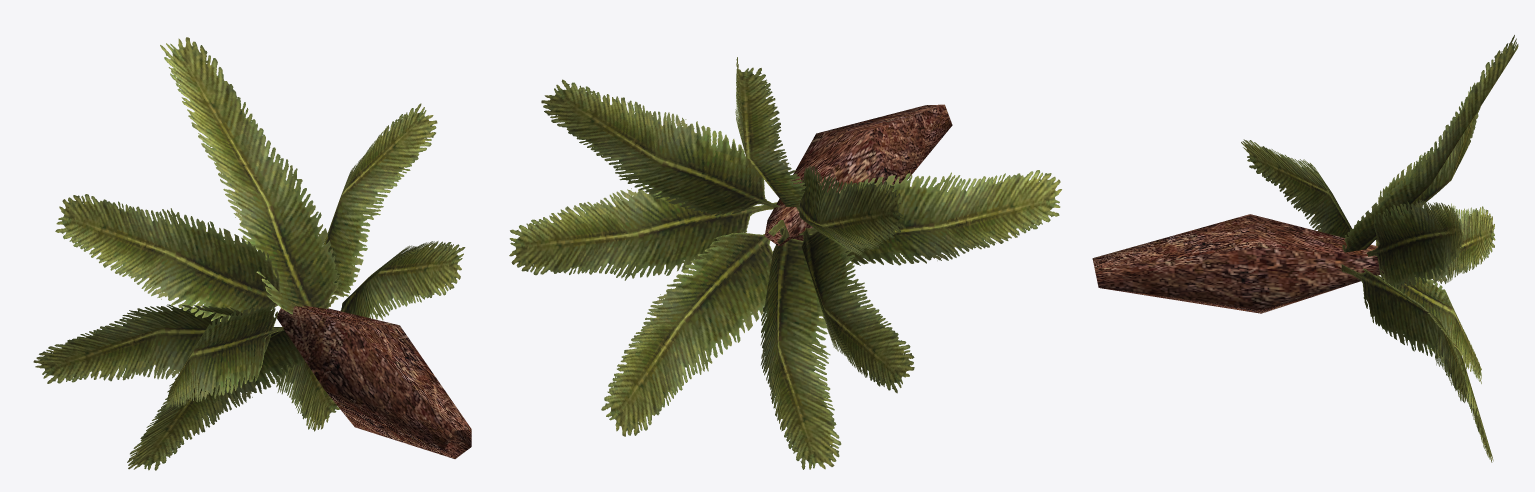
Rendered from palm_date_e.glb.
3 views of the same model, side by side, from view 1: azimuth 30°, elevation 25°; view 2: azimuth 150°, elevation 25°; view 3: azimuth 270°, elevation 25° (orthographic). The views are drawn at different scales.
Bounding box in the file's own units: 7.34 × 7.39 × 6.87.
1 material, 1 textured.
